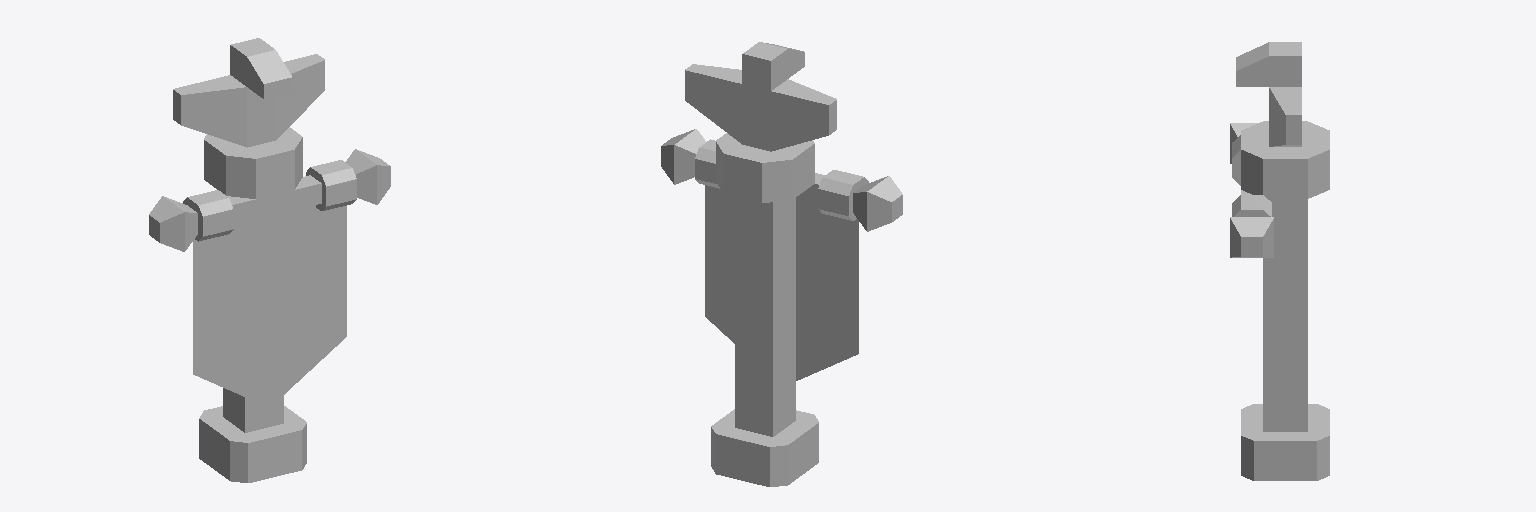
File: @deco.003.obj
3 views of the same model, side by side, from view 1: azimuth 30°, elevation 25°; view 2: azimuth 150°, elevation 25°; view 3: azimuth 270°, elevation 25° (orthographic).
Visible parts, largest first — view 1: banner; view 2: banner; view 3: banner.
Boxes of the visible parts, box(x1,y1,x2,y2) form: banner: box(149, 38, 390, 482); banner: box(661, 42, 902, 486); banner: box(1230, 42, 1329, 480).
Bounding box in the file's own units: 3 × 5.12 × 1.12.